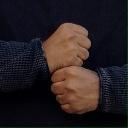hand: (42, 23, 91, 73), (51, 65, 100, 114)
